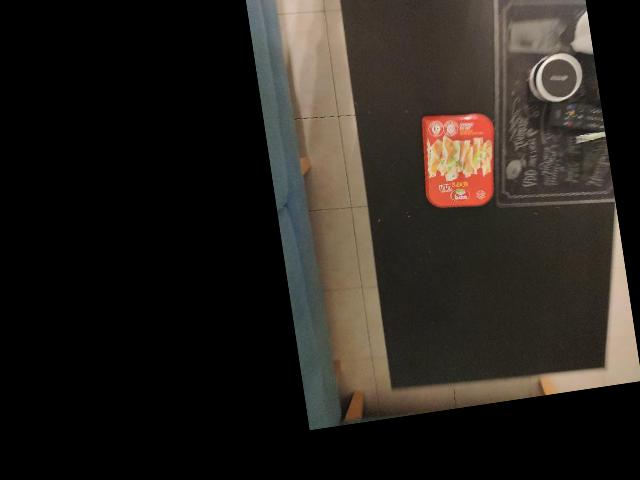cheese: (408, 96, 501, 211)
